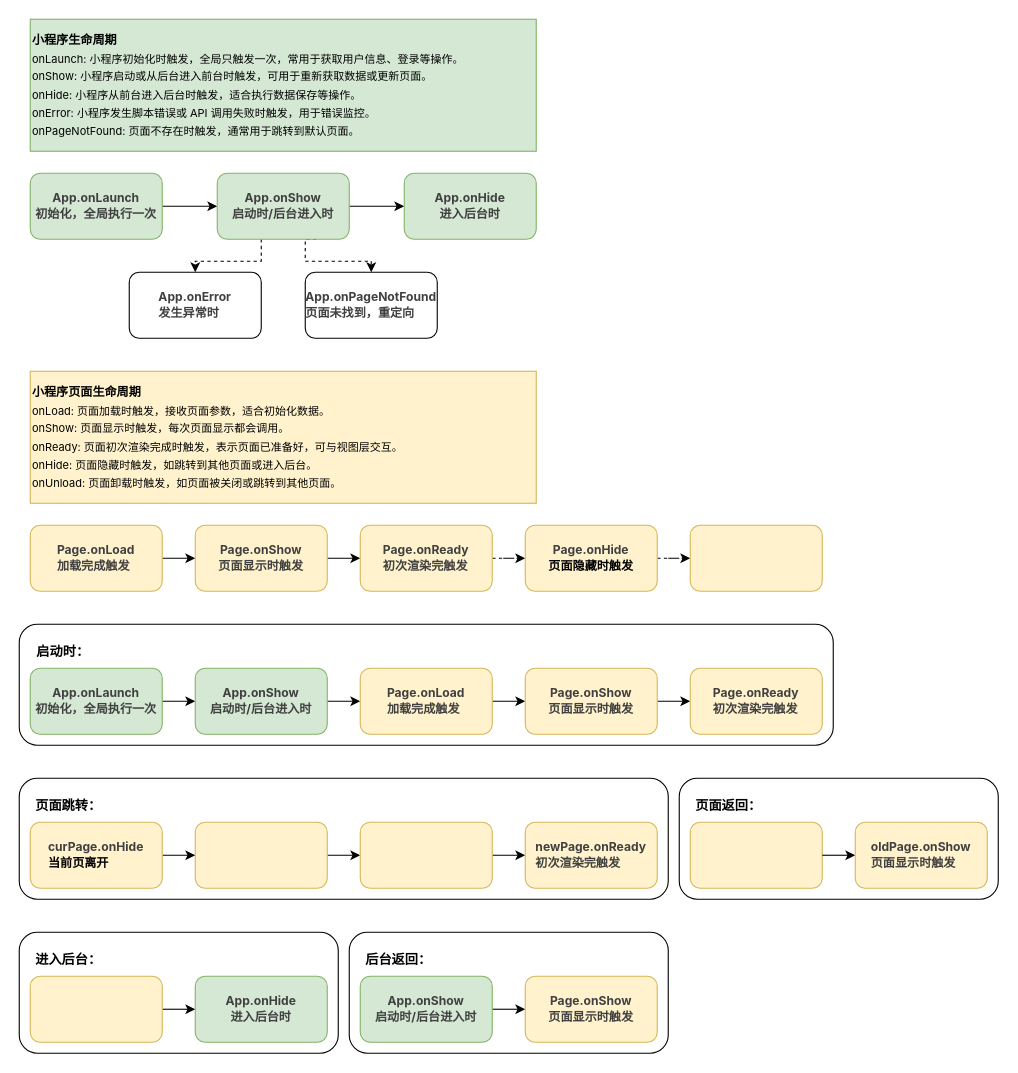
Image size: 1018x1073. Some labels were removed from this diagram. Here are the shapes that lost their labels. From the top down, the box of each, then its label:
(689, 524, 822, 591): Page. onUnload 页面卸载时触发
(194, 821, 327, 888): newPage.onLoad 加载完成触发
(359, 821, 492, 888): new Page. onShow 页面显示时触发
(689, 821, 822, 888): curPage. onUnload 页面卸载时触发
(29, 975, 162, 1042): Page. onHide 当前页
